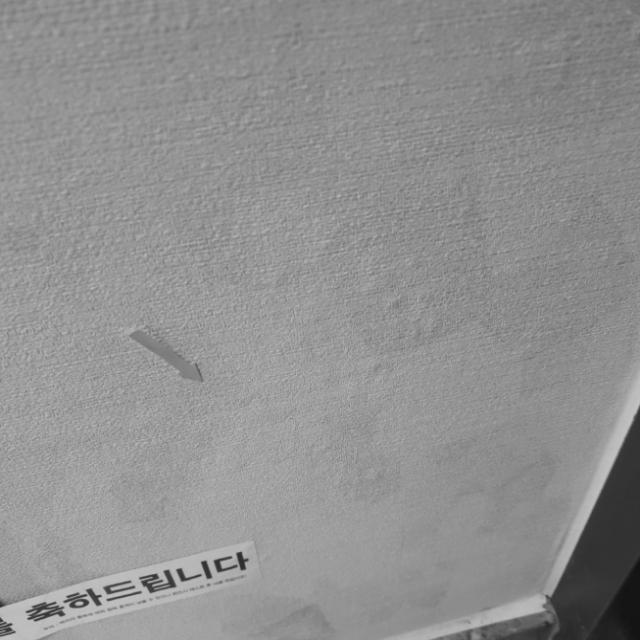stain marks: (320, 121, 627, 347), (290, 382, 554, 604), (0, 380, 221, 605), (221, 590, 346, 640)
